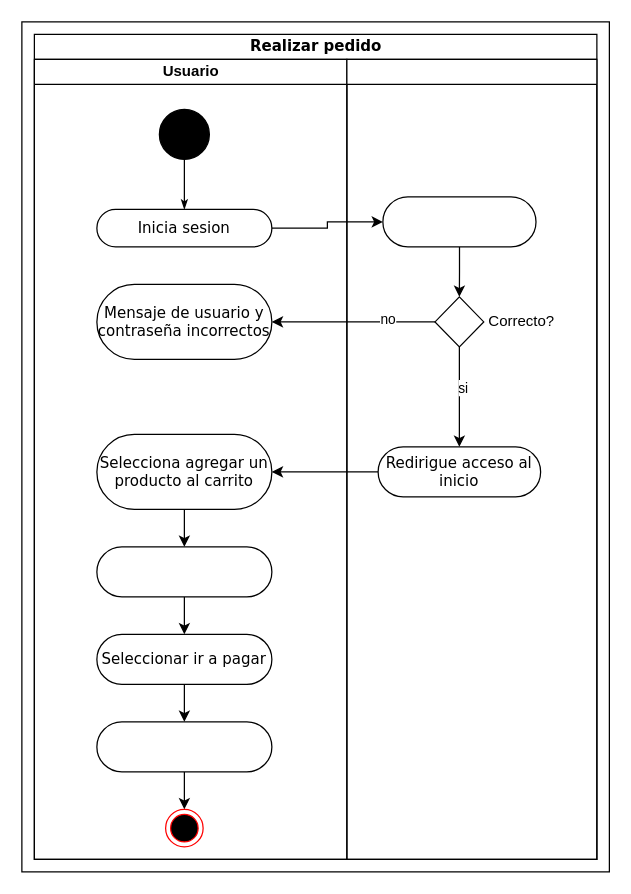
Some shapes in this 631 by 894 pixel diagram are drawn without their labels. Here are the shapes that lost their labels. From the top down, the box of each, then its label:
(382, 196, 536, 247): Verifica usuario y contraseña
(346, 58, 597, 859): Sistema
(96, 546, 272, 597): Ingresar a carrito
(96, 721, 272, 772): Realizar pago
